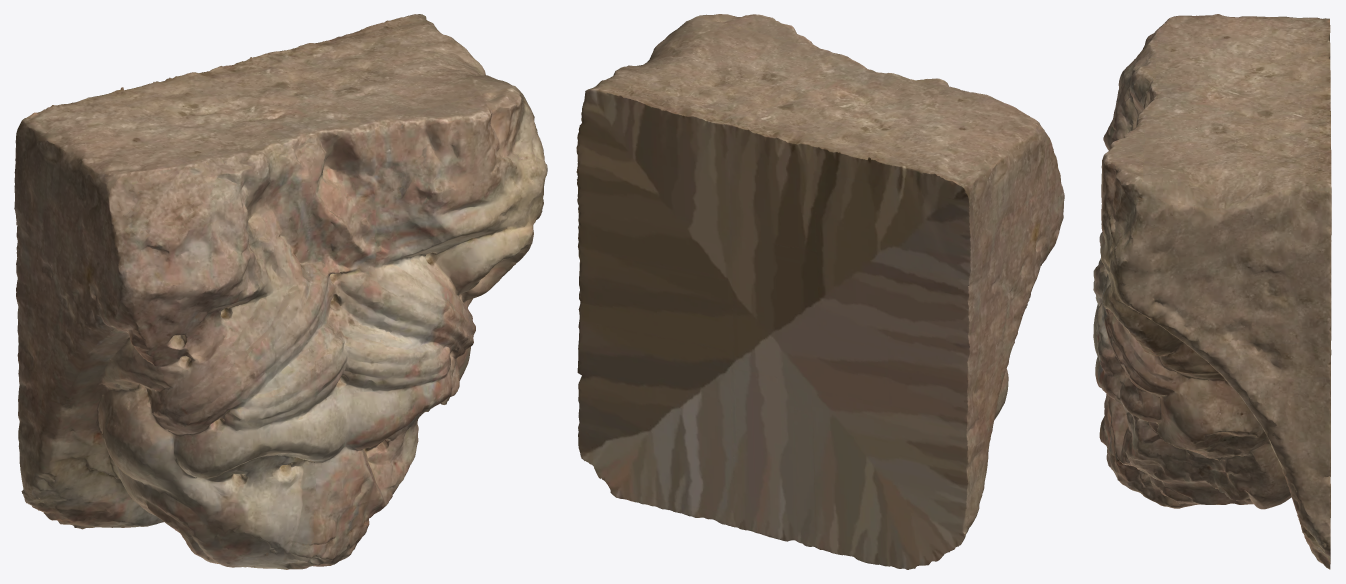
The model's file is preview.glb.
3 views of the same model, side by side, from view 1: azimuth 30°, elevation 25°; view 2: azimuth 150°, elevation 25°; view 3: azimuth 270°, elevation 25° (orthographic). The views are drawn at different scales.
Parts seen in each view (by area): view 1: ADVIMG_25_120_601_Corble_MASTER_n3d; view 2: ADVIMG_25_120_601_Corble_MASTER_n3d; view 3: ADVIMG_25_120_601_Corble_MASTER_n3d.
Boxes of the visible parts, left/top/right/bottom form: ADVIMG_25_120_601_Corble_MASTER_n3d: left=14, top=14, right=547, bottom=569; ADVIMG_25_120_601_Corble_MASTER_n3d: left=576, top=14, right=1064, bottom=569; ADVIMG_25_120_601_Corble_MASTER_n3d: left=1093, top=14, right=1331, bottom=569.
Size of the model in its own units: 0.162 by 0.162 by 0.0868.
Materials: 1 (1 with a texture image).
